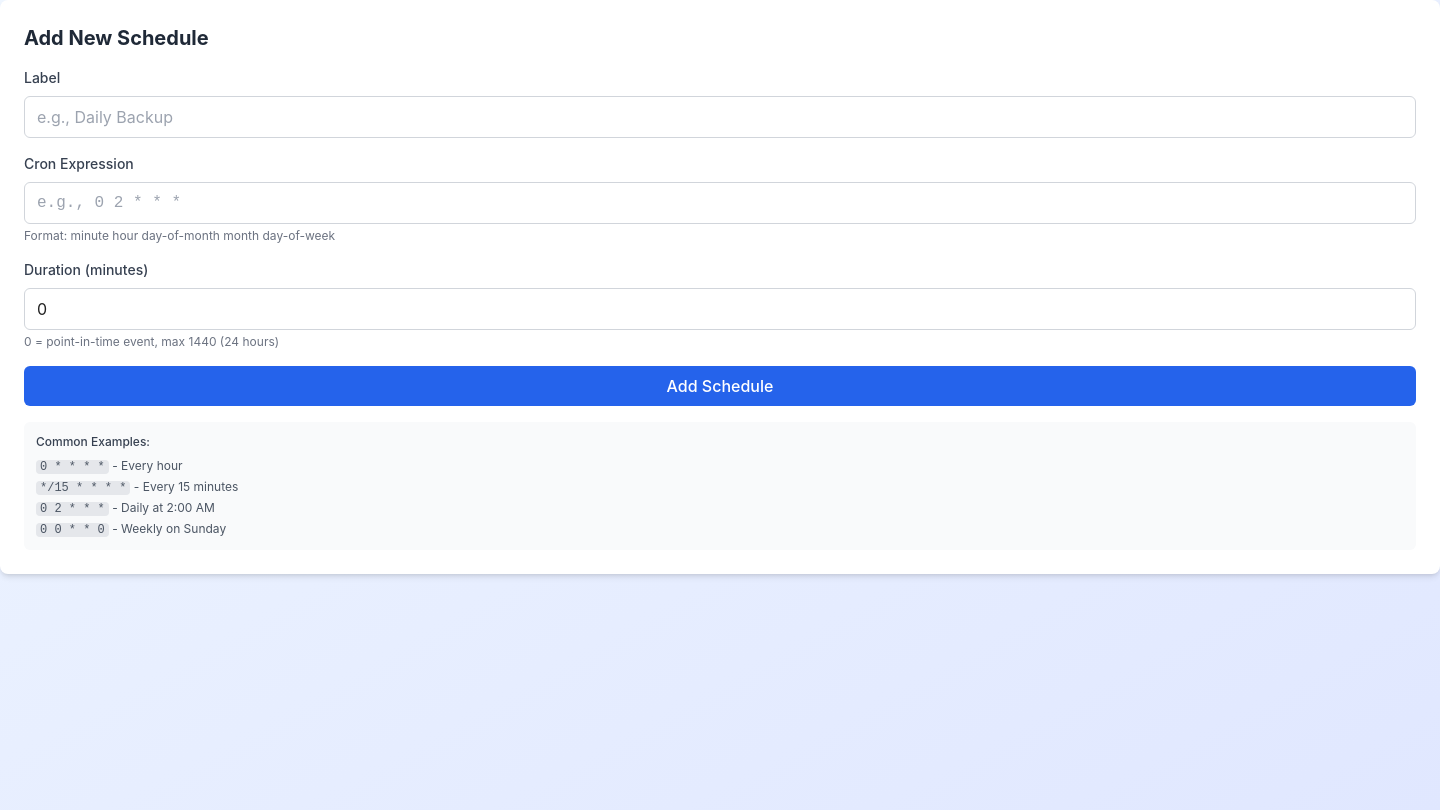
Test case: ScheduleInput › Form Validation › should show error when submitting empty label
Type "0 * * * *" into the field labelled "Cron Expression".
click(720, 203); type("0 * * * *")  # box [24,182,1416,224]
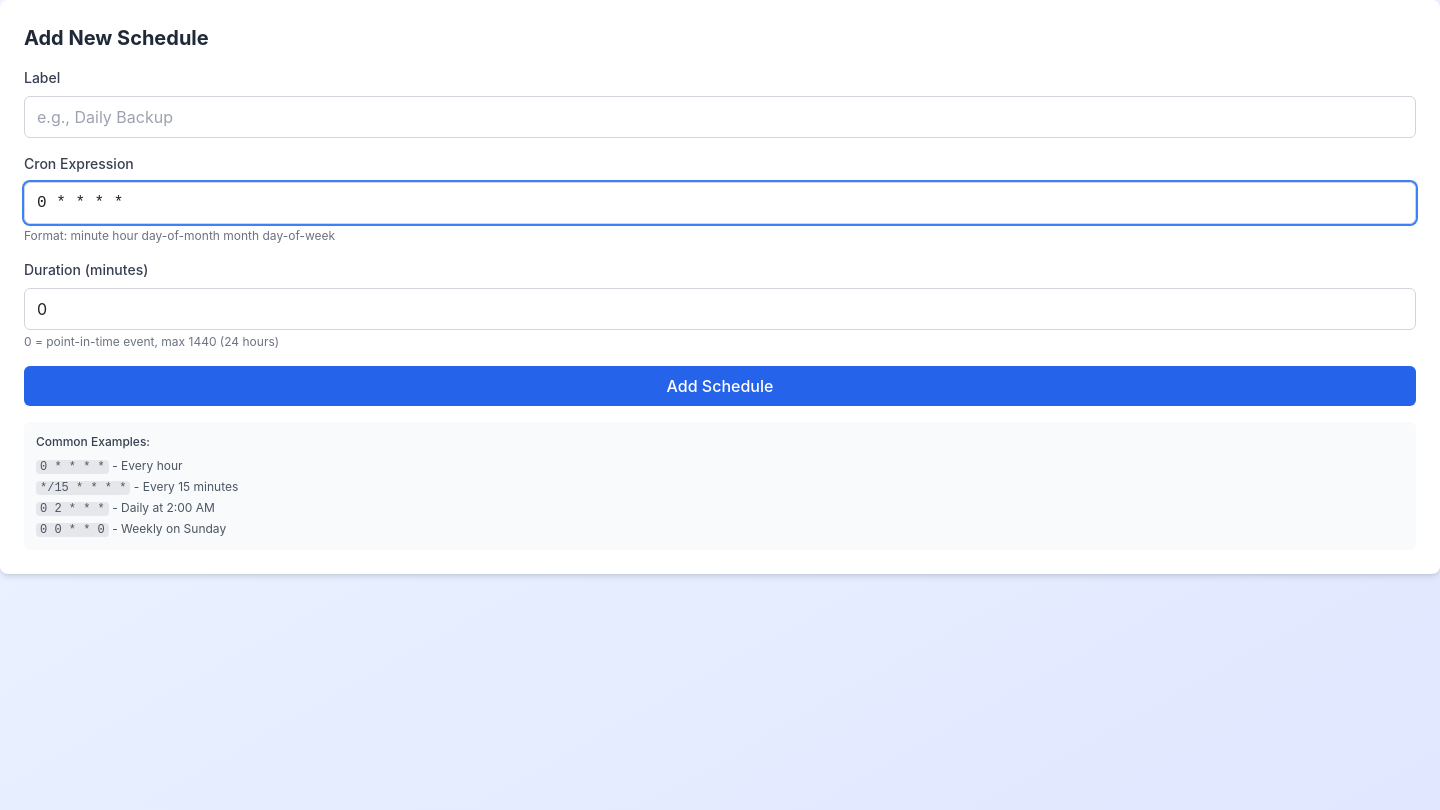
Click the button "Add Schedule".
click(720, 386)  # box [24,366,1416,406]
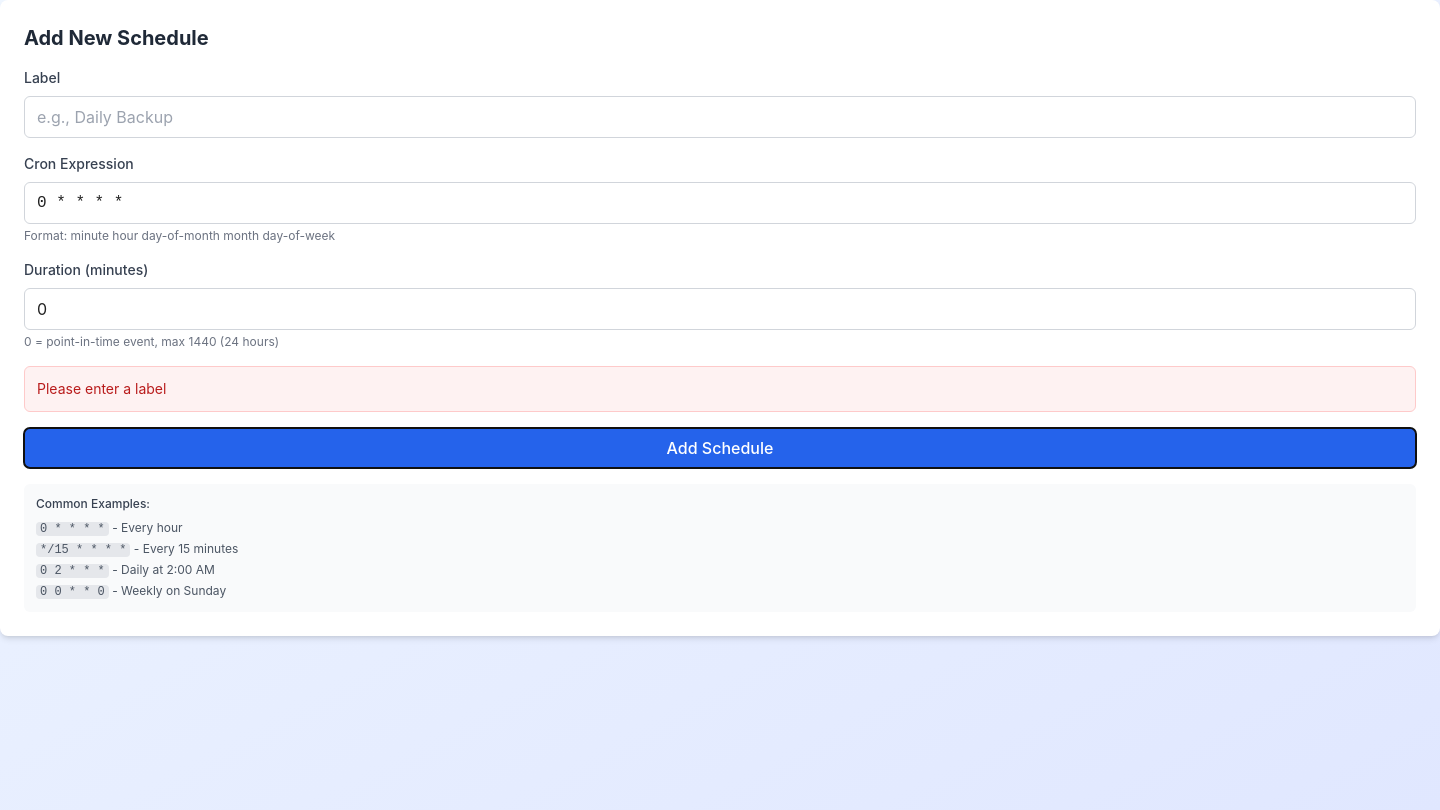
expect the text "Please enter a label" is shown: met, box [24,366,1416,412]
